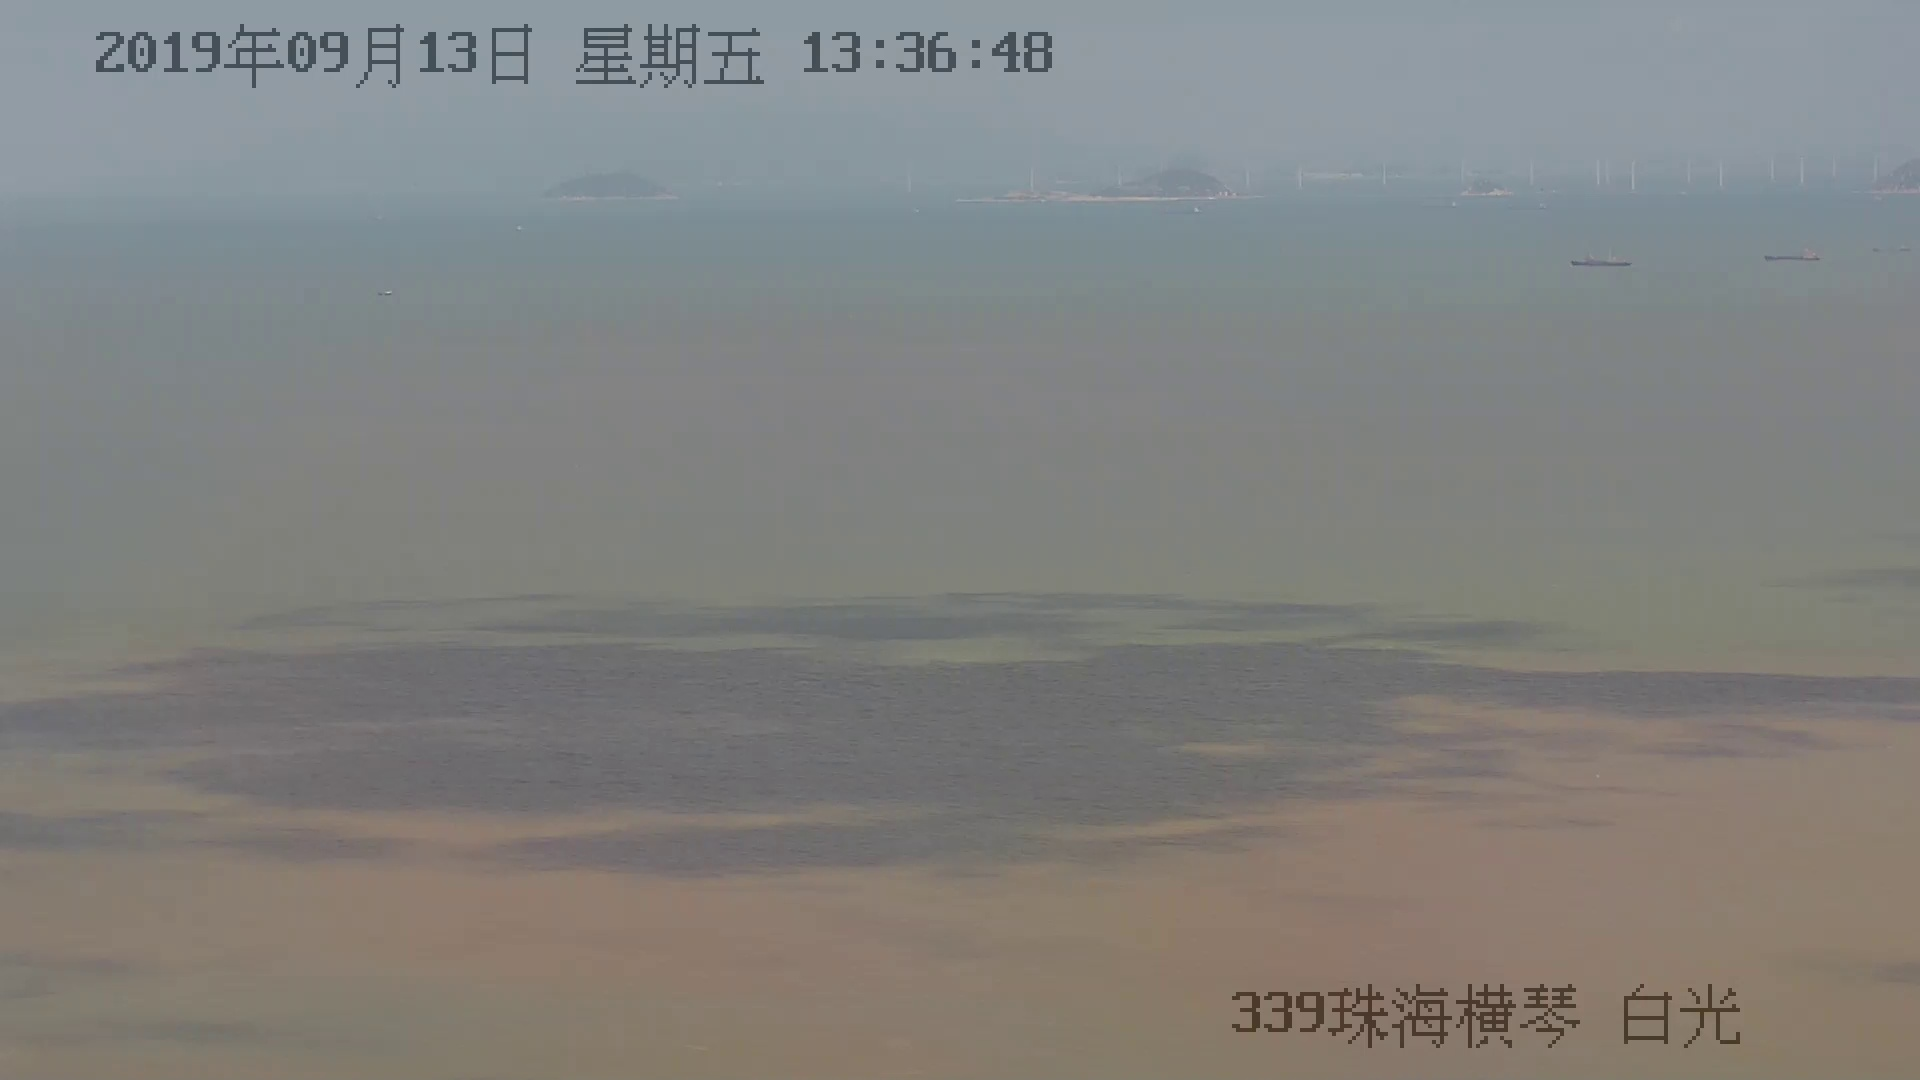ship: (1571, 247, 1633, 274), (1760, 247, 1822, 264)
